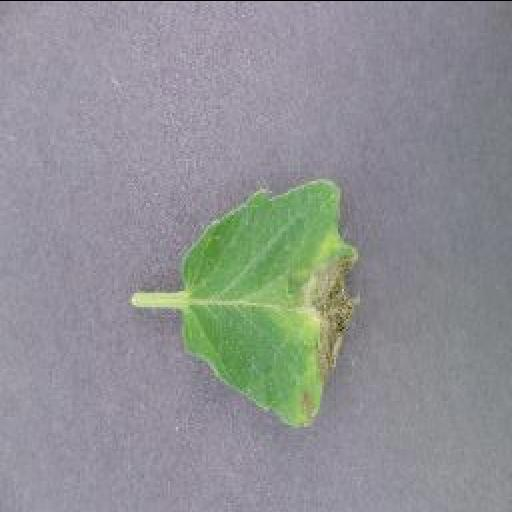disease_tomato: (174, 170, 364, 424)
